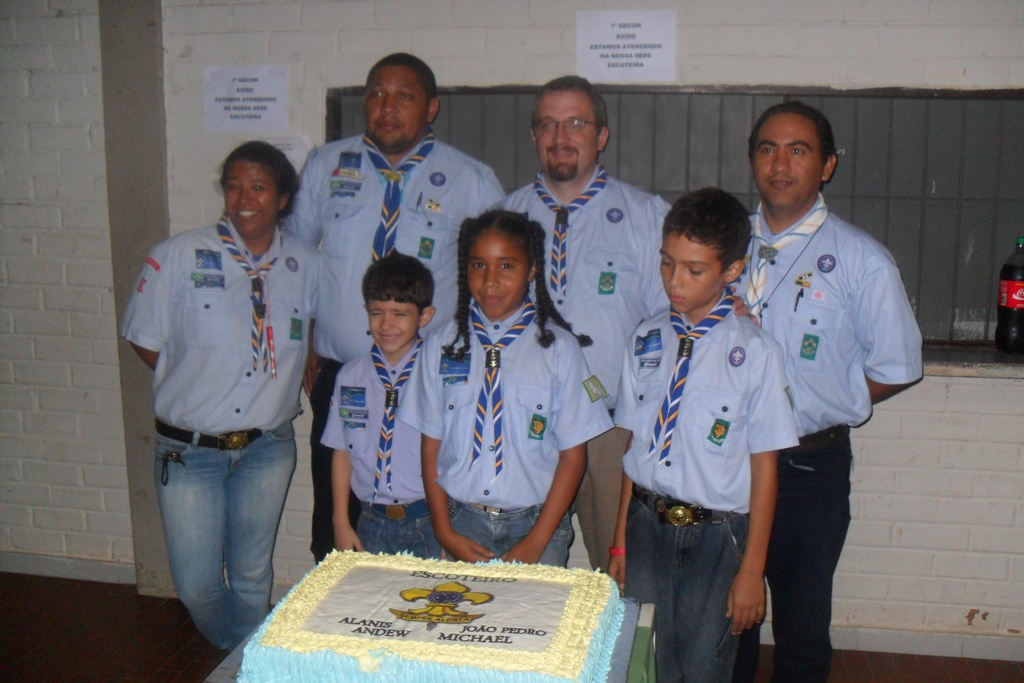cake: (237, 551, 626, 682)
